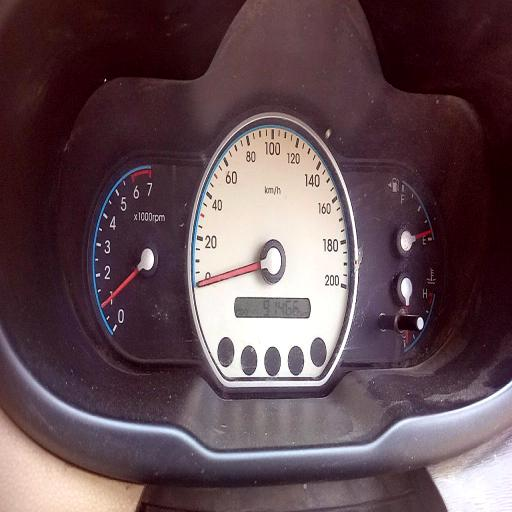tachometer: (91, 156, 183, 351)
